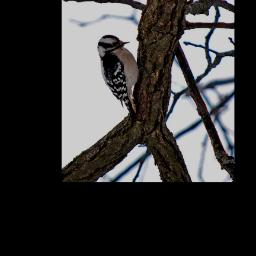Woodpecker: (97, 35, 150, 120)
